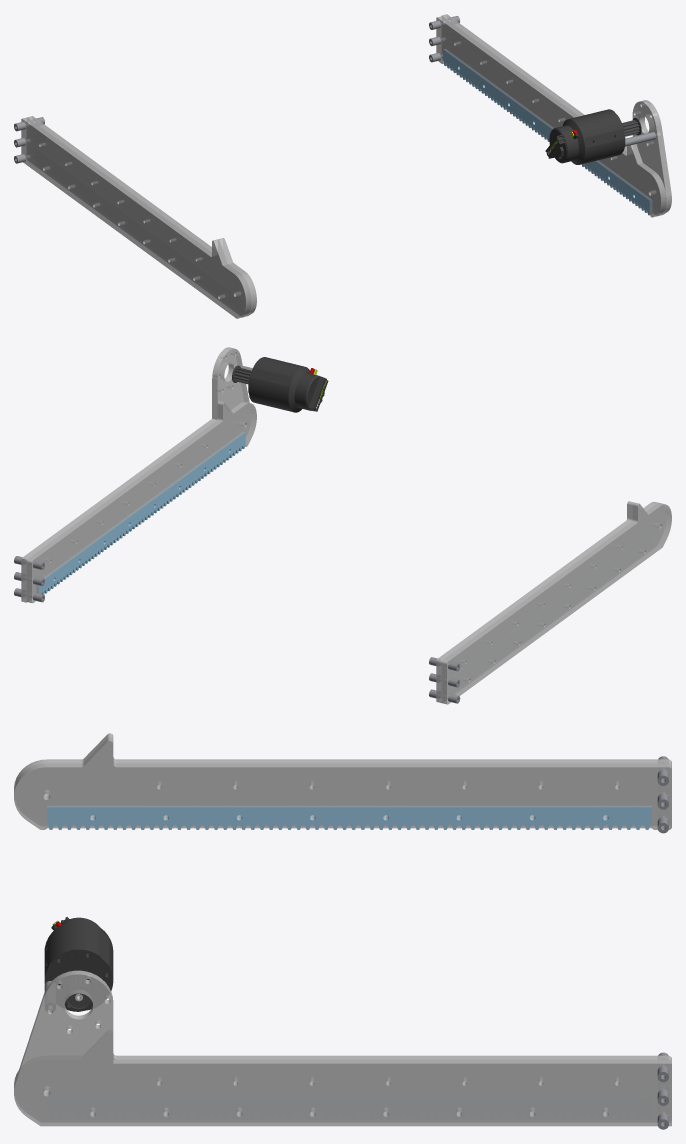
3 views of the same model, one above another, from view 1: azimuth 30°, elevation 25°; view 2: azimuth 150°, elevation 25°; view 3: azimuth 270°, elevation 25° (orthographic). The views are drawn at different scales.
Visible parts, largest first — view 1: Part 2, Part 3, Part 5, Falcon 500 Brushless Motor (V3), 5174T25_Metal Gear Rack - 20 Degree Pressure Angle, Part 4; view 2: Part 2, Part 3, Part 5, Part 4, 5174T25_Metal Gear Rack - 20 Degree Pressure Angle, Falcon 500 Brushless Motor (V3); view 3: Part 4, Part 5, Part 3, 5174T25_Metal Gear Rack - 20 Degree Pressure Angle, Falcon 500 Brushless Motor (V3), Part 2.
Part boxes in pixels (x1,y1,x2,y2): Part 2: [21, 117, 251, 318]; Part 3: [27, 116, 256, 317]; Part 5: [436, 16, 666, 217]; Falcon 500 Brushless Motor (V3): [545, 109, 625, 164]; 5174T25_Metal Gear Rack - 20 Degree Pressure Angle: [443, 49, 652, 215]; Part 4: [441, 14, 671, 215]; Part 2: [441, 502, 671, 704]; Part 3: [436, 501, 666, 703]; Part 5: [26, 401, 256, 603]; Part 4: [21, 347, 250, 602]; 5174T25_Metal Gear Rack - 20 Degree Pressure Angle: [36, 432, 245, 594]; Falcon 500 Brushless Motor (V3): [248, 357, 328, 412]; Part 4: [14, 970, 671, 1126]; Part 5: [14, 1034, 671, 1122]; Part 3: [14, 737, 671, 829]; 5174T25_Metal Gear Rack - 20 Degree Pressure Angle: [47, 806, 651, 829]; Falcon 500 Brushless Motor (V3): [44, 917, 113, 1011]; Part 2: [14, 733, 671, 825].
Bounding box in the file's own units: 0.65 × 0.1459 × 0.5725.
